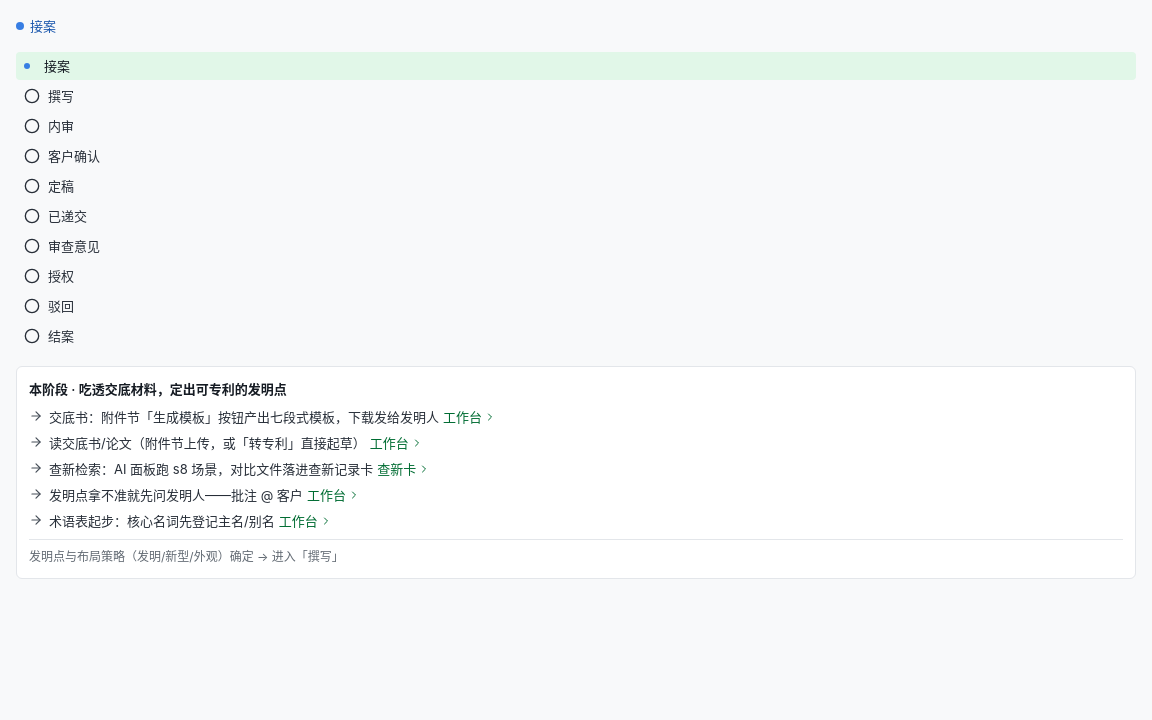
Test: LifecyclePanel › viewer 无写权 → 档钮可预览但无切换钮
Click the button with test id "lifecycle-stage-oa" at (74, 246), box [16, 232, 1136, 260]
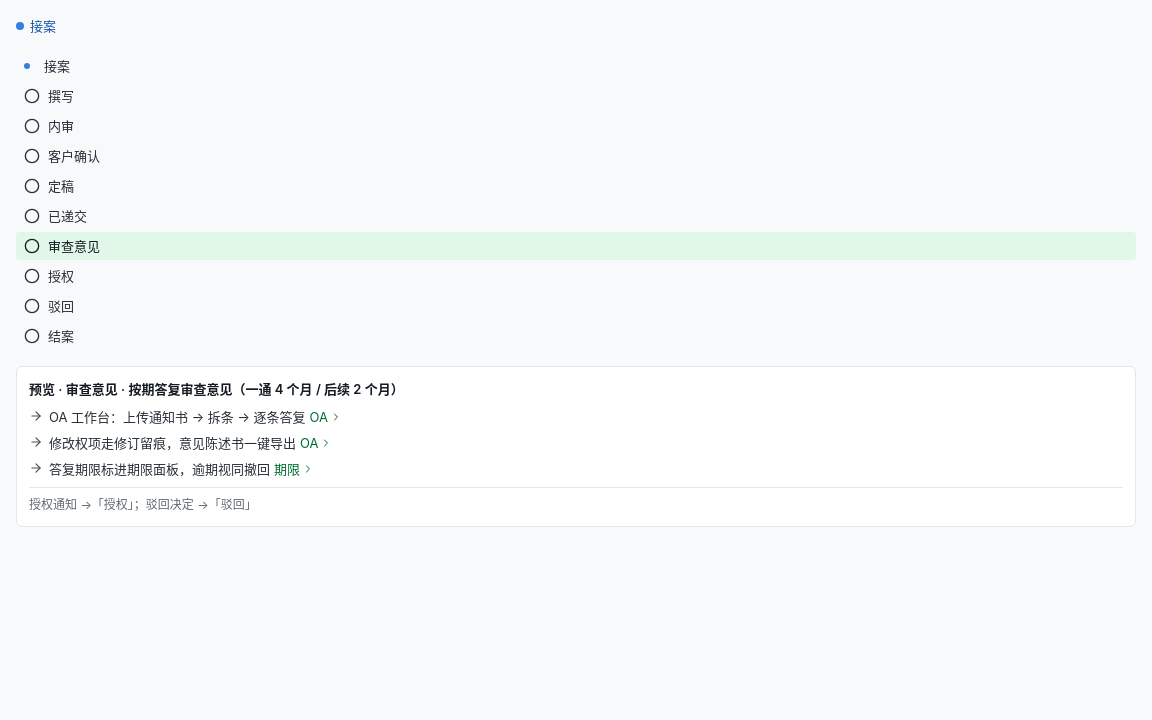
Expected: the element with test id "lifecycle-guide" shows "预览 · 审查意见", [29, 381, 118, 397]
